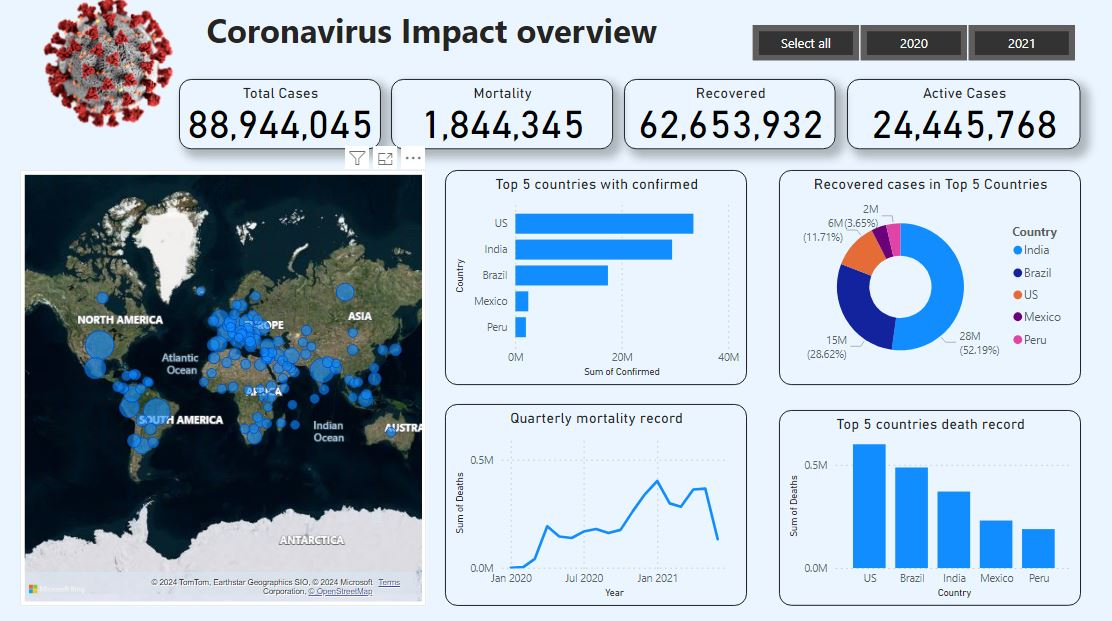

The dashboard page shown, as its layout file describes it:
{"tool":"powerbi","page":{"name":"Page 1","canvas":[1280,720],"ordinal":0},"visuals":[{"type":"kpi","title":"Recovered","fields":{"TrendLine":["Corona_Virus_Dataset.Corona_Date.Variation.Date Hierarchy.Year"],"Indicator":["Sum(Corona_Virus_Dataset.Recovered)"]},"box":[715.9,98.6,241.2,80.4],"z":0},{"type":"kpi","title":"Total  Cases","fields":{"TrendLine":["Corona_Virus_Dataset.Corona_Date.Variation.Date Hierarchy.Year"],"Indicator":["Sum(Corona_Virus_Dataset.Confirmed)"]},"box":[208.8,98.6,229.5,80.4],"z":1000},{"type":"kpi","title":"Mortality","fields":{"TrendLine":["Corona_Virus_Dataset.Corona_Date.Variation.Date Hierarchy.Year"],"Indicator":["Sum(Corona_Virus_Dataset.Deaths)"]},"box":[450,98.6,252.9,80.4],"z":2000},{"type":"slicer","fields":{"Values":["Corona_Virus_Dataset.Corona_Date.Variation.Date Hierarchy.Year"]},"box":[836.2,30.8,417,46.7],"z":3000},{"type":"lineChart","title":"Cases Confirmed Quarterly  ","fields":{"Category":["Corona_Virus_Dataset.Corona_Date.Variation.Date Hierarchy.Year","Corona_Virus_Dataset.Corona_Date.Variation.Date Hierarchy.Month"]},"box":[511,469.5,343.7,229.5],"z":4000},{"type":"columnChart","title":"Top 5 countries death record","fields":{"Category":["Corona_Virus_Dataset.Country"],"Y":["Sum(Corona_Virus_Dataset.Deaths)"]},"box":[892.2,475.9,343.7,223.1],"z":5000},{"type":"map","fields":{"Category":["Corona_Virus_Dataset.Country"],"Size":["Sum(Corona_Virus_Dataset.Deaths)"]},"box":[27.2,202.3,463,496.7],"z":6000},{"type":"donutChart","title":"Recovered cases in Top 5 Countries","fields":{"Category":["Corona_Virus_Dataset.Country"],"Y":["Sum(Corona_Virus_Dataset.Recovered)"]},"box":[892.2,202.3,343.7,245.1],"z":7000},{"type":"clusteredBarChart","title":"Top 5 countries with confirmed ","fields":{"Category":["Corona_Virus_Dataset.Country"],"Y":["Sum(Corona_Virus_Dataset.Confirmed)"]},"box":[511,202.3,343.7,245.1],"z":8000},{"type":"textbox","title":"Coronavirus Impact Overview","box":[234.7,13,599.1,64.8],"z":9000},{"type":"image","box":[48,0,160.8,160.8],"z":10000},{"type":"kpi","title":"Active Cases","fields":{"TrendLine":["Corona_Virus_Dataset.Corona_Date.Variation.Date Hierarchy.Year"],"Indicator":["Corona_Virus_Dataset.ActiveCases"]},"box":[970.1,98.6,265.9,80.4],"z":11000}]}

Visuals, with their boxes in screenshot pixels (x1, y1, x2, y2), scaled from the page's 1280x720 canvas onto the 1112x621 screenshot:
"Recovered" kpi: bbox(622, 85, 831, 154)
"Total  Cases" kpi: bbox(181, 85, 381, 154)
"Mortality" kpi: bbox(391, 85, 611, 154)
slicer - Corona_Virus_Dataset.Corona_Date.Variation.Date Hierarchy.Year: bbox(726, 27, 1089, 67)
"Cases Confirmed Quarterly  " lineChart: bbox(444, 405, 743, 603)
"Top 5 countries death record" columnChart: bbox(775, 410, 1074, 603)
map - Corona_Virus_Dataset.Country x Sum(Corona_Virus_Dataset.Deaths): bbox(24, 174, 426, 603)
"Recovered cases in Top 5 Countries" donutChart: bbox(775, 174, 1074, 386)
"Top 5 countries with confirmed " clusteredBarChart: bbox(444, 174, 743, 386)
"Coronavirus Impact Overview" textbox: bbox(204, 11, 724, 67)
image: bbox(42, 0, 181, 139)
"Active Cases" kpi: bbox(843, 85, 1074, 154)
